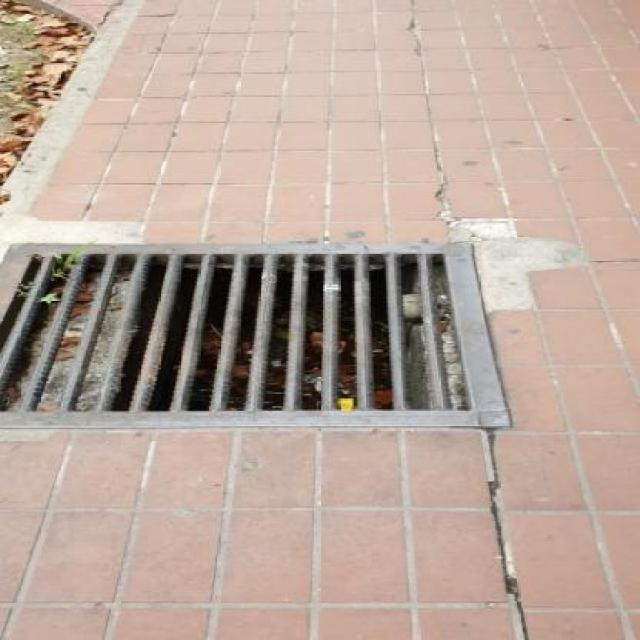Drain Hole: (47, 229, 518, 446)
